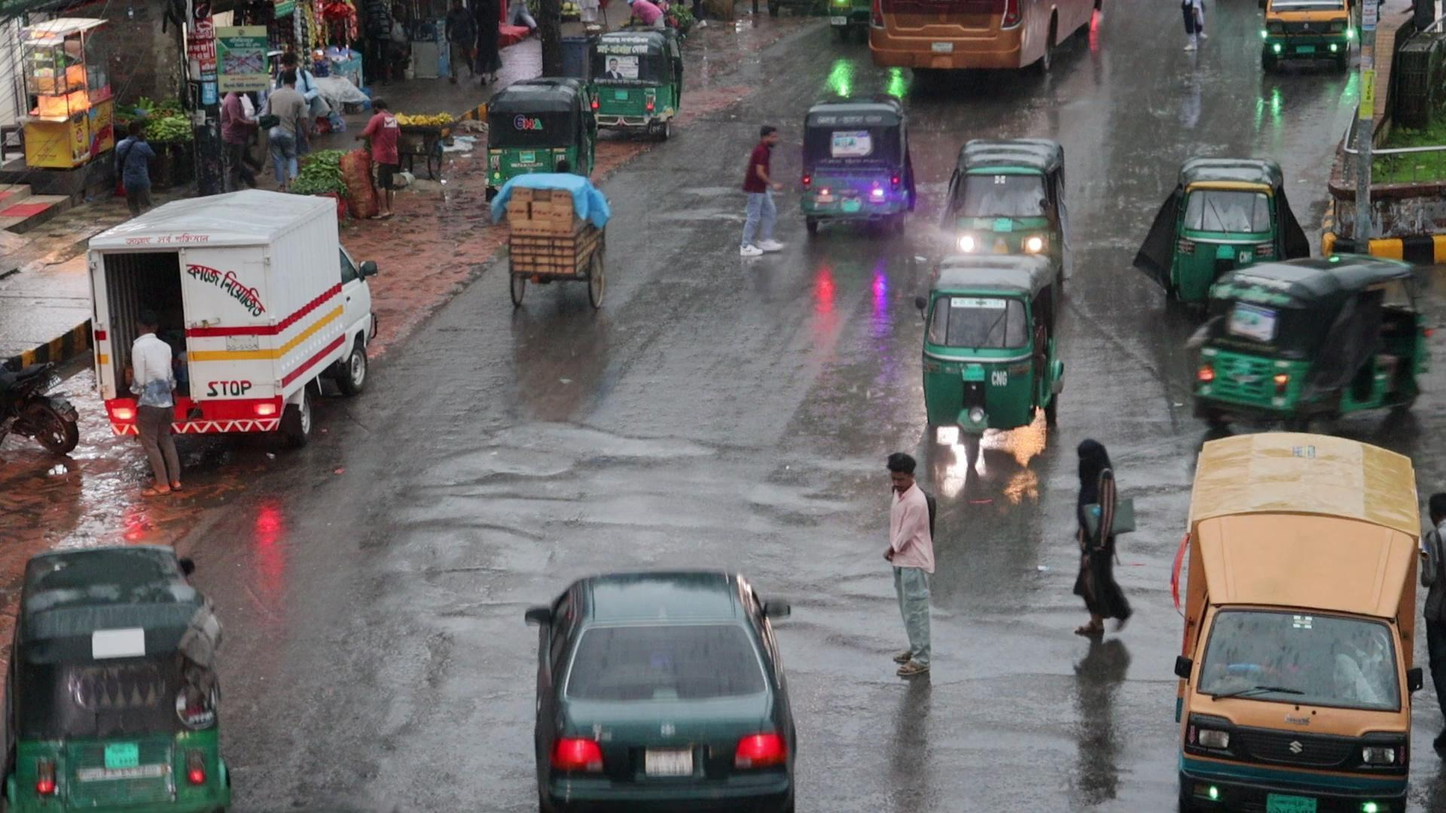Car: (514, 565, 806, 813)
Truck: (1186, 418, 1414, 813)
